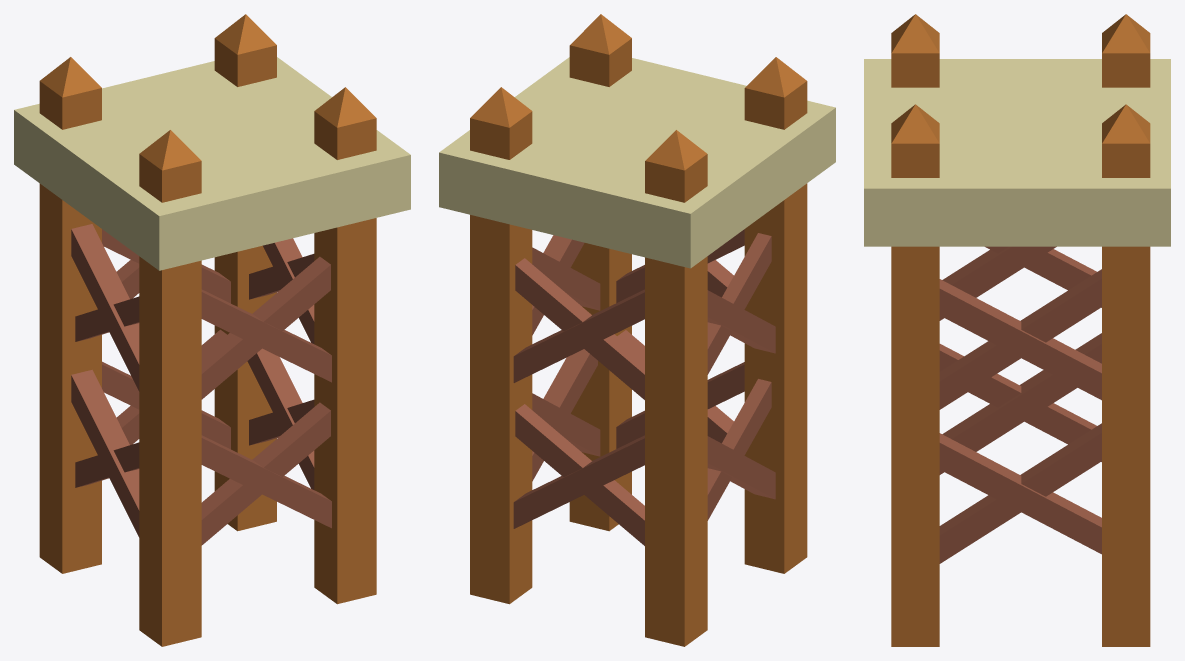
The model's file is tower1.fbx.
3 views of the same model, side by side, from view 1: azimuth 30°, elevation 25°; view 2: azimuth 150°, elevation 25°; view 3: azimuth 270°, elevation 25° (orthographic). The views are drawn at different scales.
Visible parts, largest first — view 1: tower1; view 2: tower1; view 3: tower1.
Boxes of the visible parts, x1,y1,x2,y2 form: tower1: [14, 14, 410, 646]; tower1: [439, 14, 835, 646]; tower1: [864, 14, 1170, 646].
Bounding box in the file's own units: 82.98 × 159 × 82.98.
